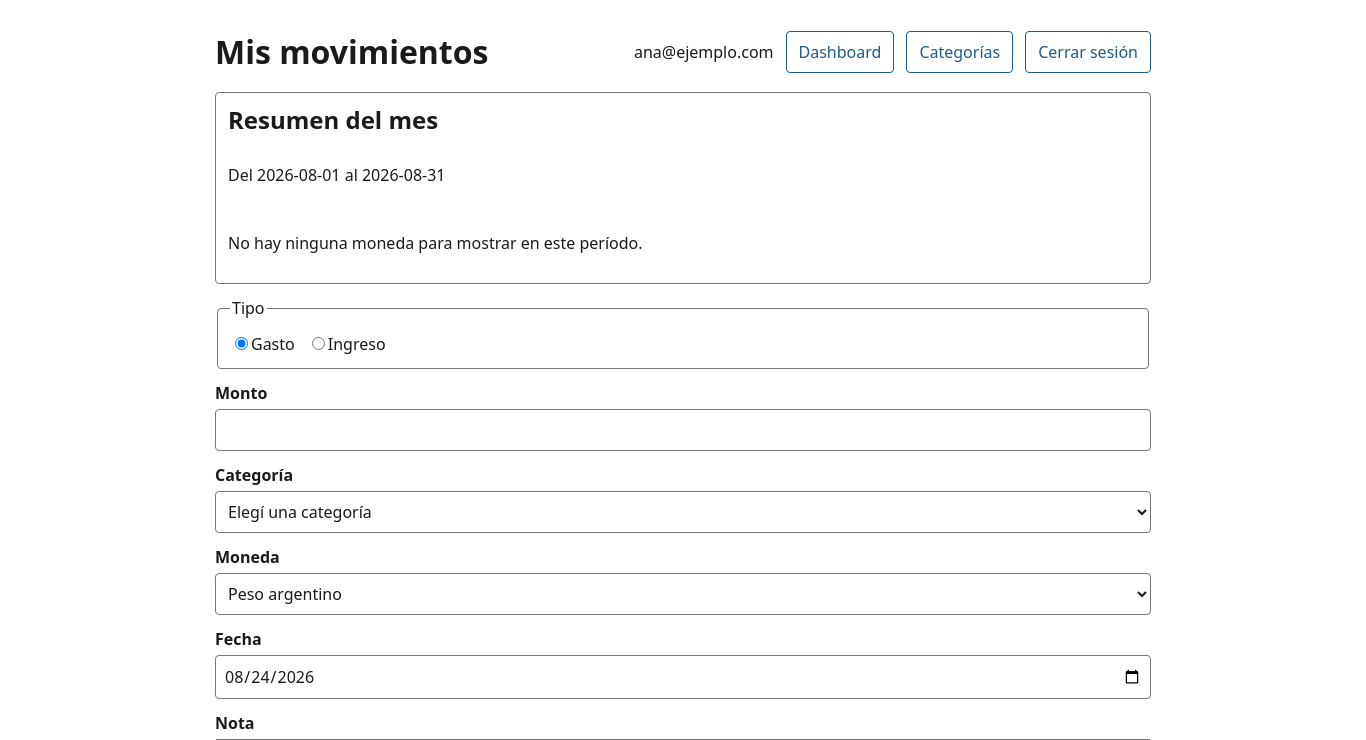
Scenario: App — el catálogo de categorías › no vuelve a pedir el catálogo al ir a categorías y volver AC-12
The width and height of the screenshot is (1366, 740).
Click the button "Categorías": coordinates (960, 52) [906,31,1013,73]
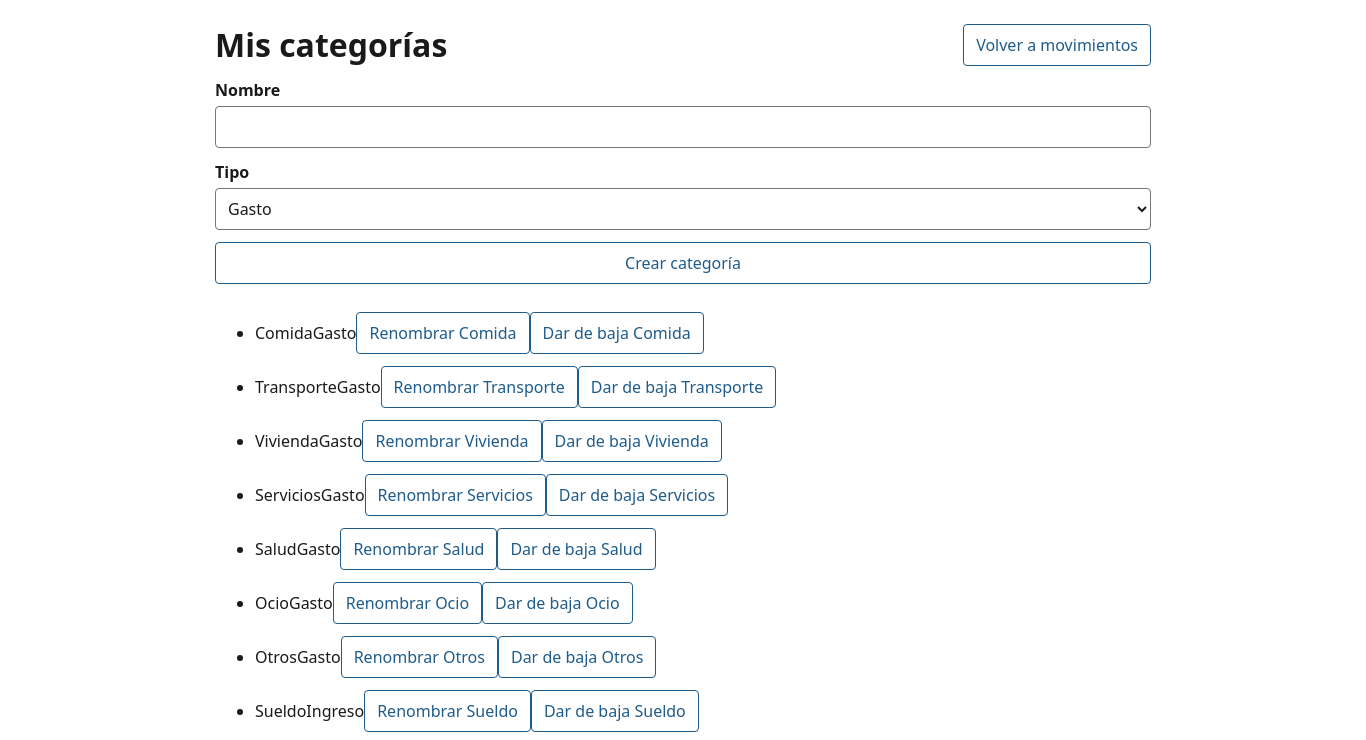
Check: the heading "Mis categorías" is shown, box [215,25,447,65]
Click the button "Volver a movimientos": coordinates (1057, 45) [963,24,1151,66]
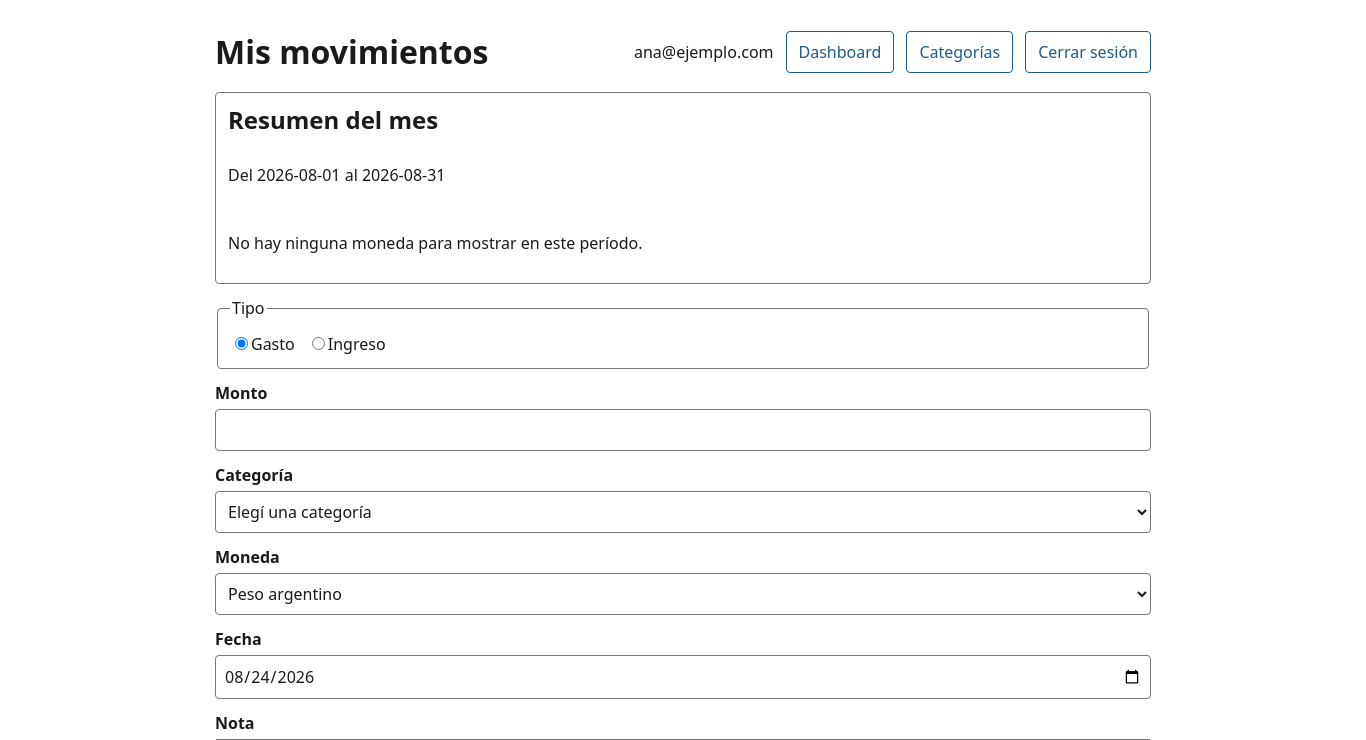
Check: the heading "Mis movimientos" is shown, box [215,32,488,72]
